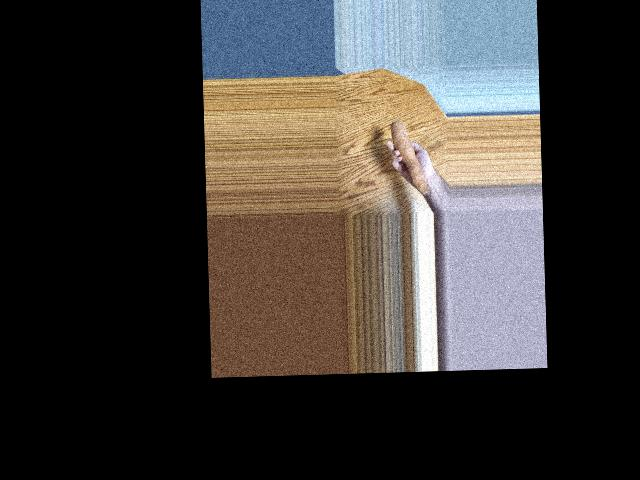sweet_potato: (395, 122, 429, 195)
